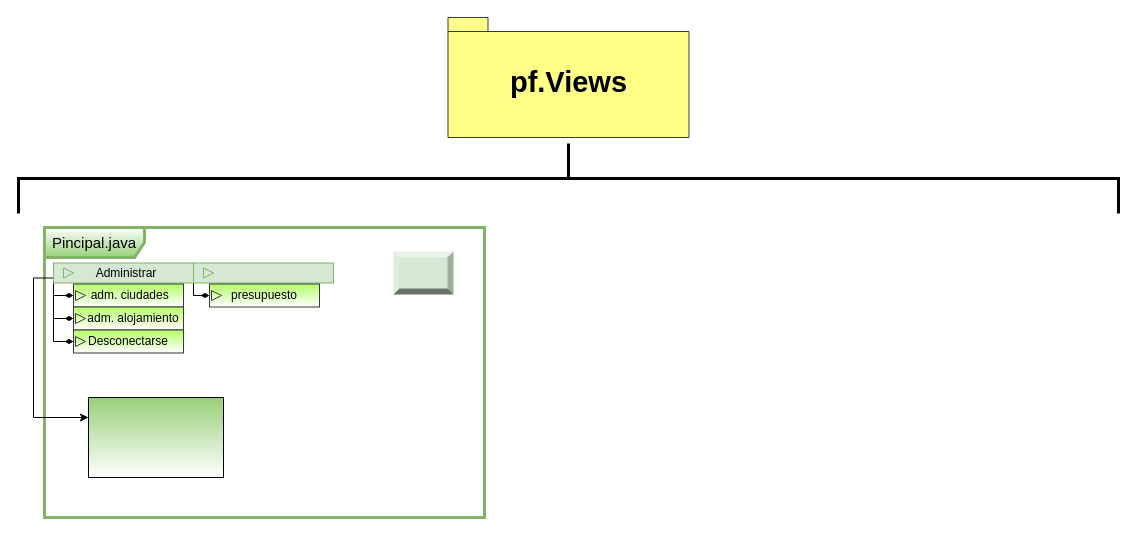
The diagram is 1137 pixels wide and 536 high, and some of its shapes have lost their labels. Each missing label, with the box of its shape:
La pestaña administar solo estara activa si se logea como administrador.: (88, 396, 224, 478)
Presupuestos: (192, 262, 334, 283)
Reconectar BD: (392, 250, 454, 294)
